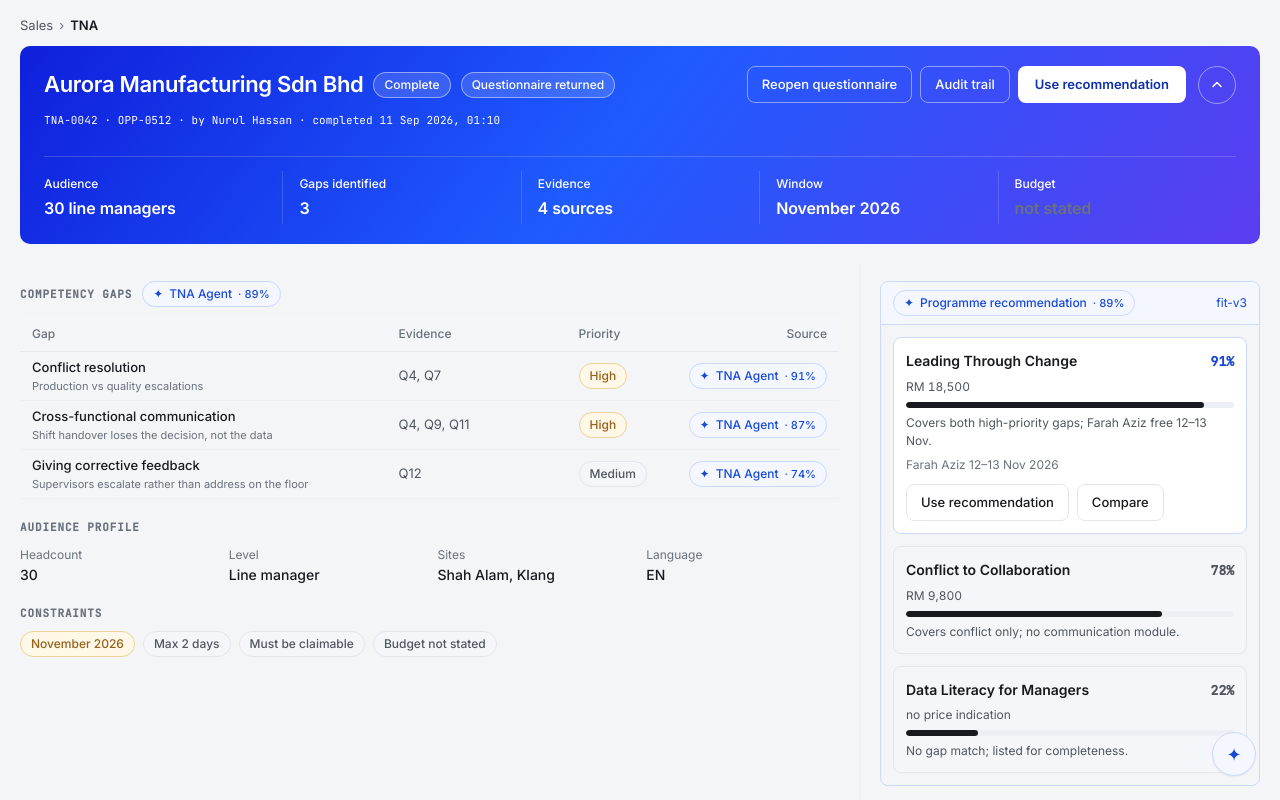
M05-S02 · TNA detail › accepts the leading recommendation through the action envelope
Expected: the button "Leading Through Change" is shown, top-left (906, 350), bottom-right (1077, 371)
Click the button "Use recommendation" in the row of "Questionnaire returned" at (1102, 85), box top-left (1018, 66), bottom-right (1186, 103)
(page scrolled)
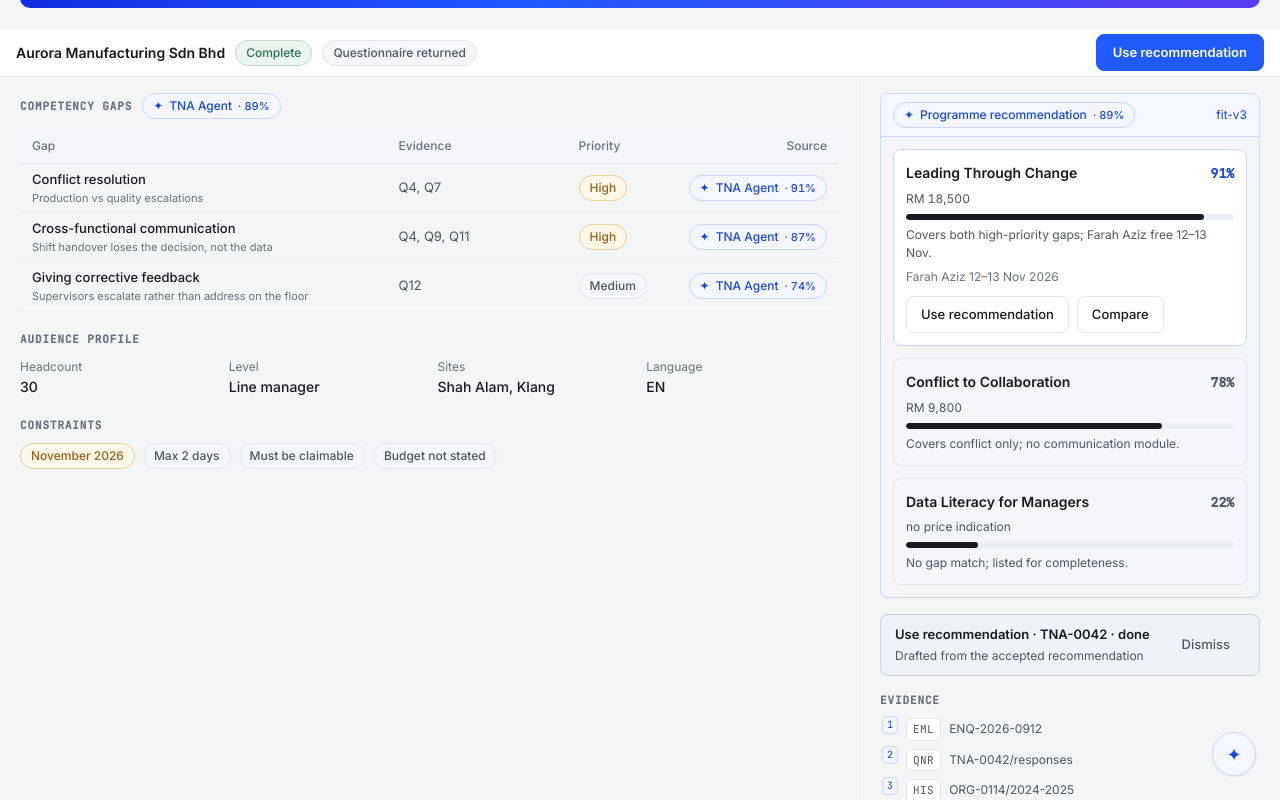
Expected: the text "Use recommendation · TNA-0042 · done" is shown, top-left (895, 625), bottom-right (1154, 644)
Expected: the text "Drafted from the accepted recommendation" is shown, top-left (895, 646), bottom-right (1154, 664)
